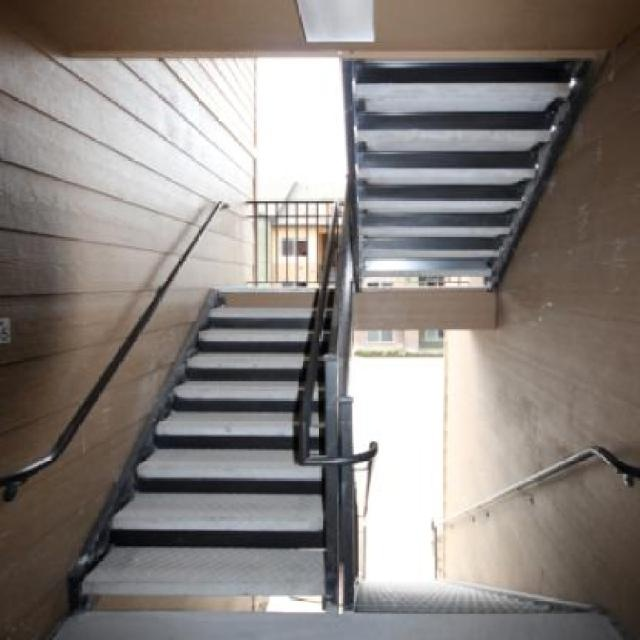stair: (35, 165, 401, 637)
